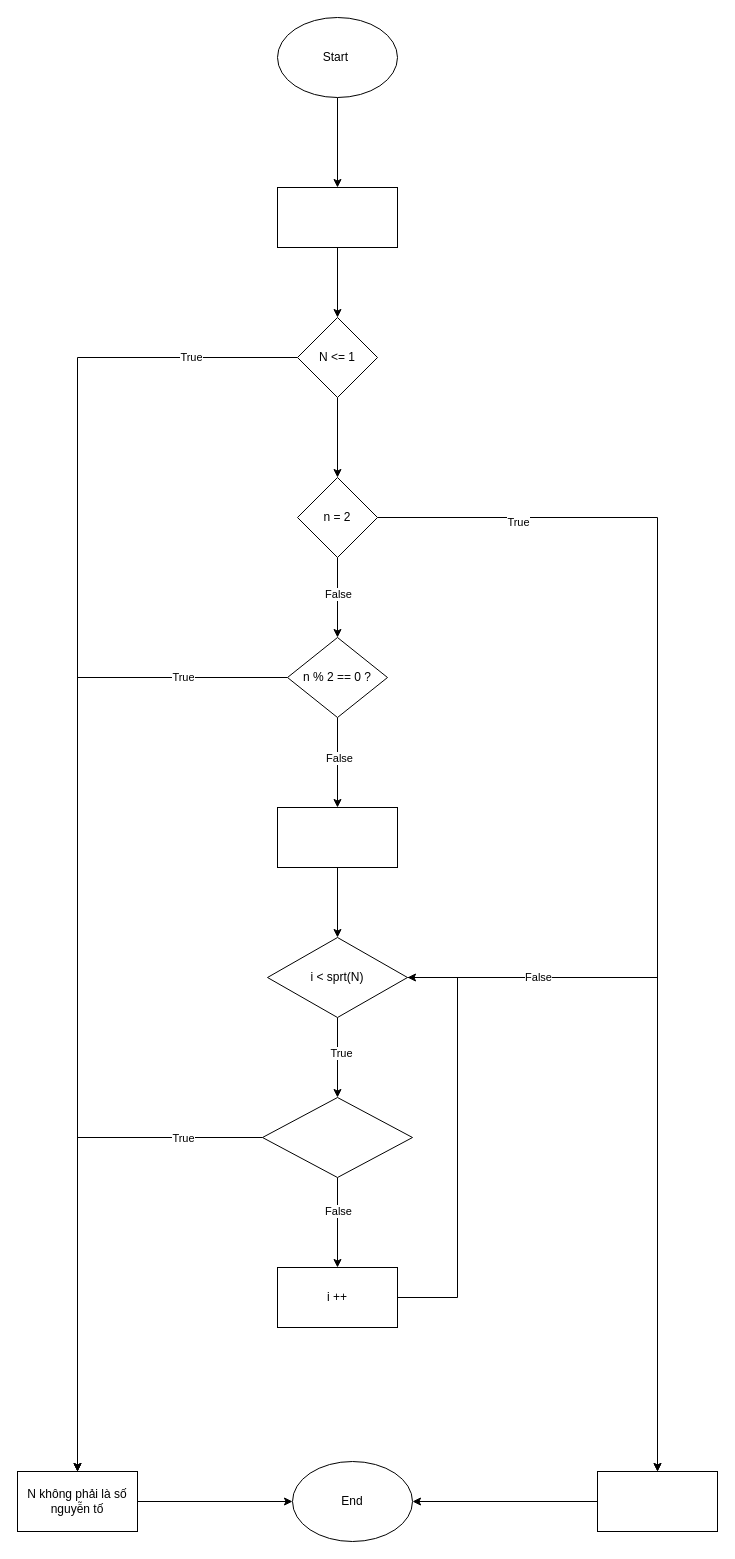
This 735x1559 diagram has some shape labels left out. The shapes that lost their labels are listed below. From the top down, each one's centre as x and y in pixels, then its label:
[337,217]: Nhập N
[337,837]: i = 2
[337,1137]: N % i == 0 ?
[657,1501]: N là số nguyên tố
